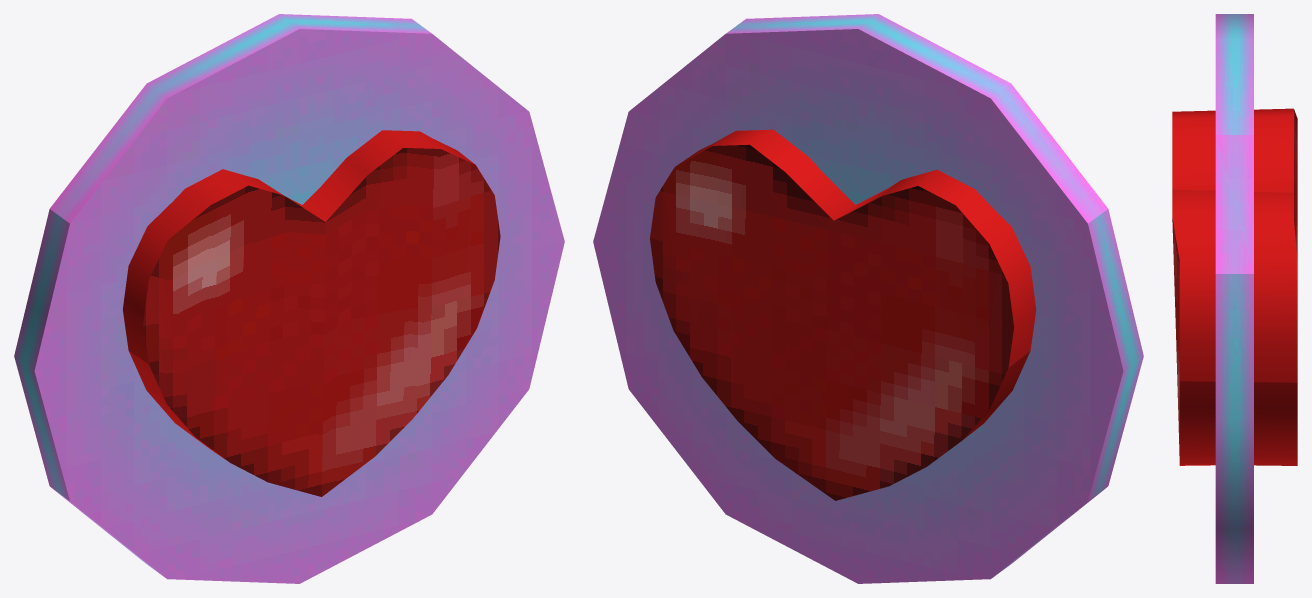
File: Health.fbx
3 renders of one model, left to right at view 1: azimuth 30°, elevation 25°; view 2: azimuth 150°, elevation 25°; view 3: azimuth 270°, elevation 25°, orthographic. The views are drawn at different scales.
Parts seen in each view (by area): view 1: health_l0; view 2: health_l0; view 3: health_l0.
Boxes of the visible parts, left/top/right/bottom form: health_l0: left=14, top=14, right=564, bottom=583; health_l0: left=593, top=14, right=1143, bottom=583; health_l0: left=1172, top=14, right=1297, bottom=583.
Size of the model in its own units: 60 by 60 by 13.15.
Materials: 3 (3 with a texture image).
